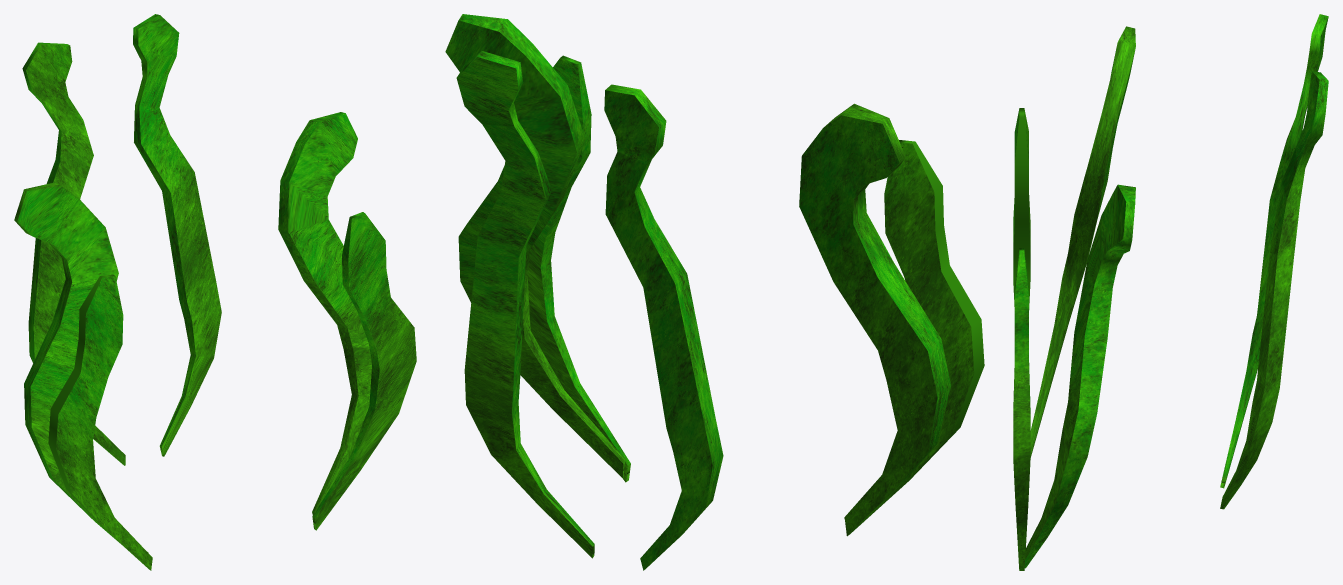
The model's file is kelp_prop.fbx.
The picture shows the model from 3 angles, left to right: view 1: azimuth 30°, elevation 25°; view 2: azimuth 150°, elevation 25°; view 3: azimuth 270°, elevation 25°; orthographic projection. The views are drawn at different scales.
Visible parts, largest first — view 1: polySurface15; view 2: polySurface15; view 3: polySurface15.
Part boxes in pixels (x1,y1,x2,y2): polySurface15: [14, 14, 416, 570]; polySurface15: [445, 14, 984, 570]; polySurface15: [1013, 14, 1328, 570].
Size of the model in its own units: 409 by 459 by 274.
1 material, 1 textured.
